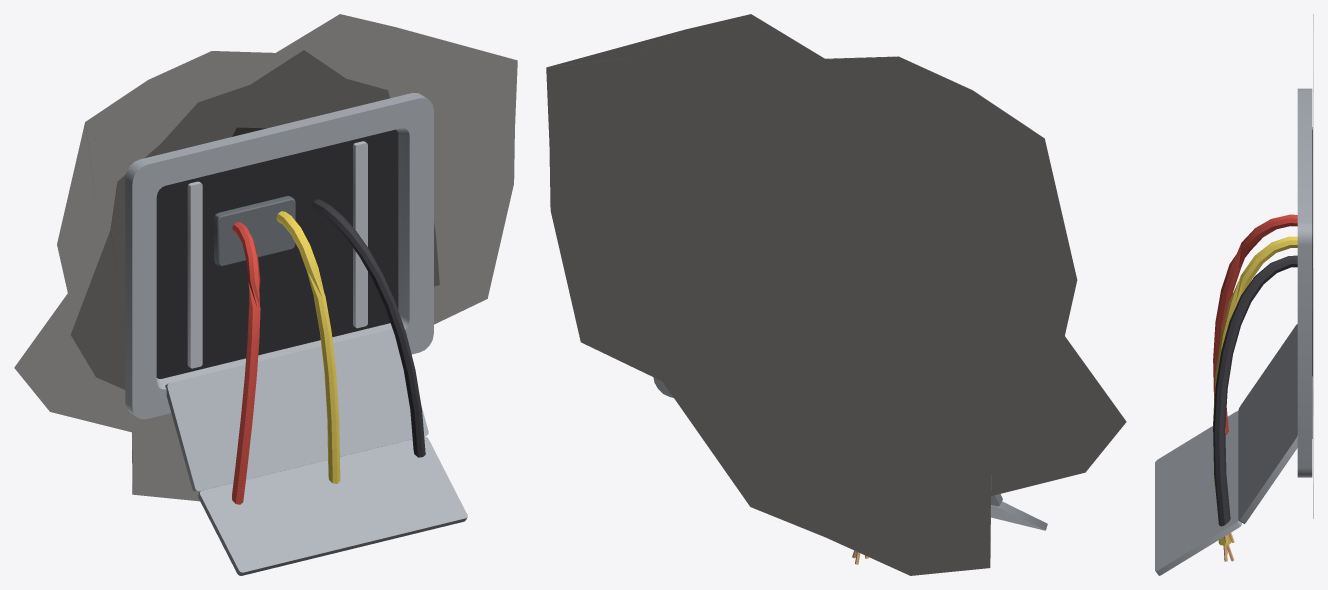
Rendered from SM_DmgPanel.fbx.
3 views of the same model, side by side, from view 1: azimuth 30°, elevation 25°; view 2: azimuth 150°, elevation 25°; view 3: azimuth 270°, elevation 25° (orthographic). The views are drawn at different scales.
Visible parts, largest first — view 1: DmgPanel; view 2: DmgPanel; view 3: DmgPanel.
Boxes of the visible parts, left/top/right/bottom form: DmgPanel: left=14, top=14, right=517, bottom=575; DmgPanel: left=546, top=14, right=1126, bottom=575; DmgPanel: left=1155, top=14, right=1313, bottom=575.
Size of the model in its own units: 1.04 by 0.9732 by 0.2837.
